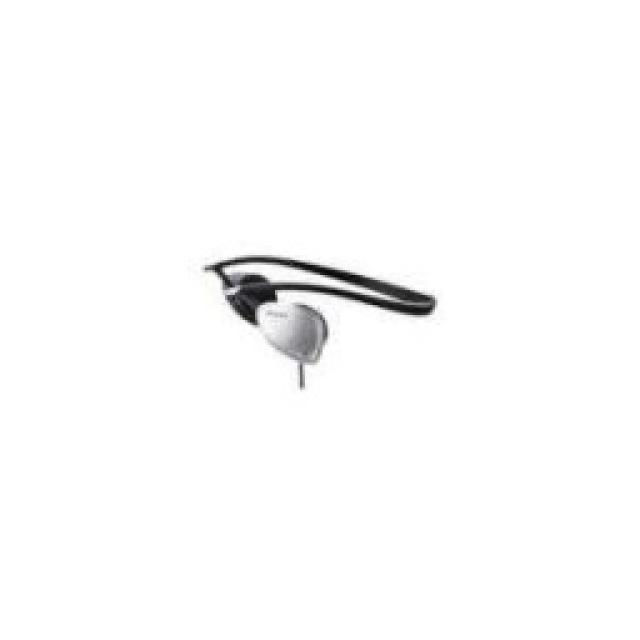headphones: (200, 252, 435, 388)
